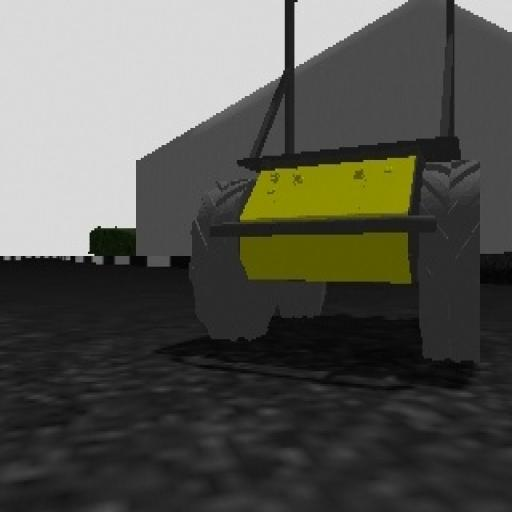huskya200: (148, 0, 486, 401)
